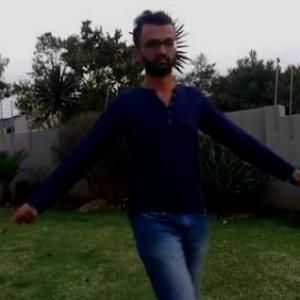land: (47, 35, 292, 284)
